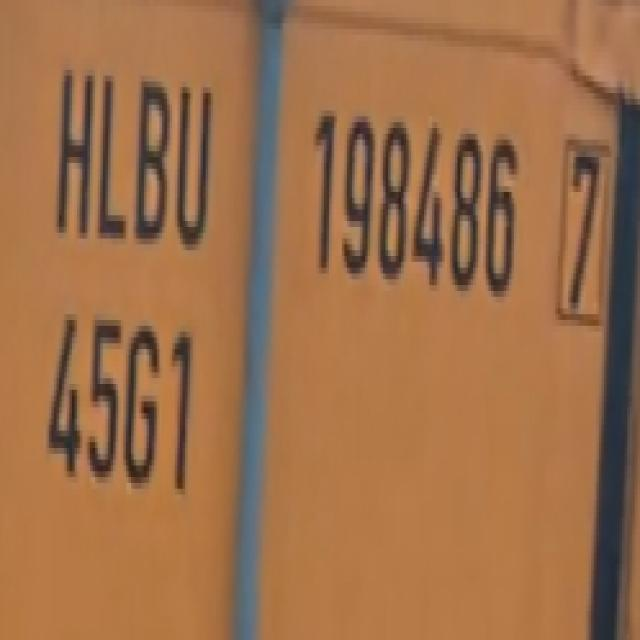dv: (552, 120, 612, 332)
owner: (50, 46, 219, 260)
serial: (309, 86, 520, 322)
size: (35, 306, 206, 512)
